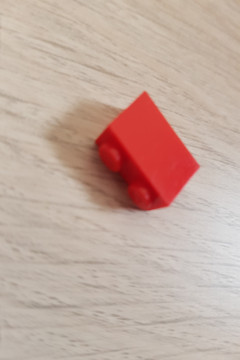1x2 red: (92, 90, 202, 212)
